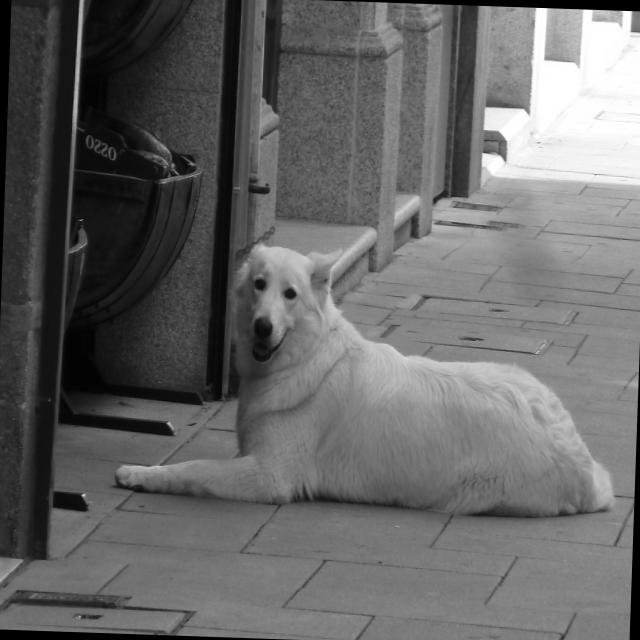laying down: (107, 233, 628, 523)
